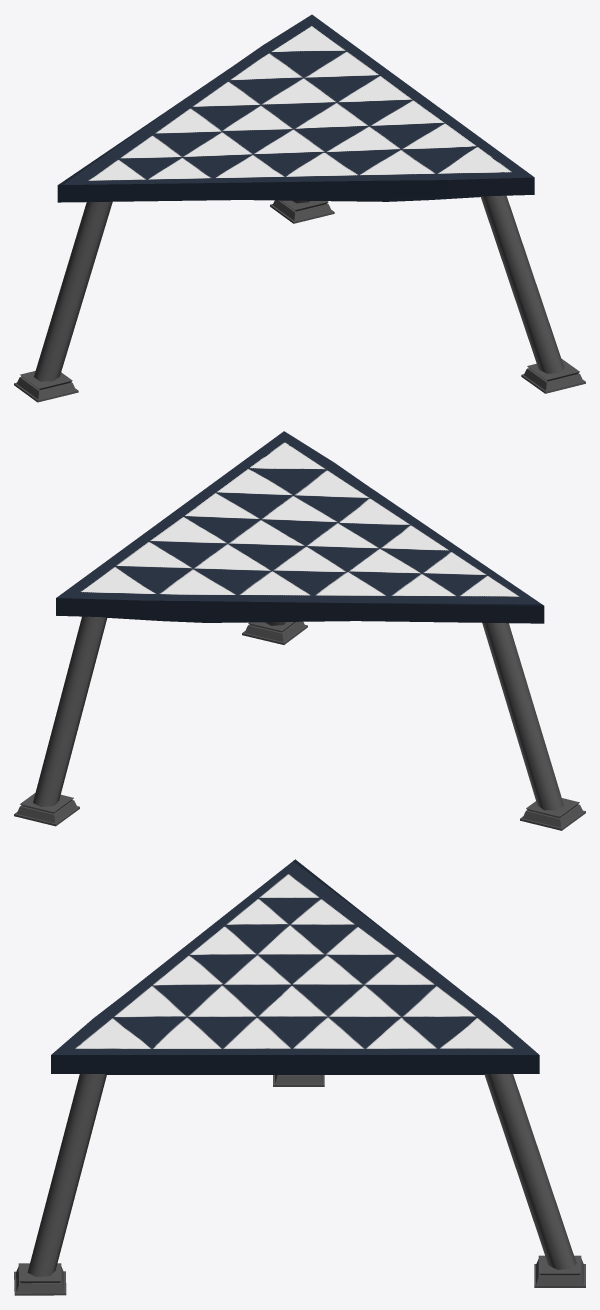
The model's file is tableTRIANGLE.fbx.
The picture shows the model from 3 angles, top to bottom: view 1: azimuth 30°, elevation 25°; view 2: azimuth 150°, elevation 25°; view 3: azimuth 270°, elevation 25°; orthographic projection. The views are drawn at different scales.
Visible parts, largest first — view 1: tabletop, leg3, leg1, foot1, foot3, foot2; view 2: tabletop, leg1, leg2, foot1, foot2, foot3; view 3: tabletop, leg2, leg3, foot3, foot2, foot1.
Part boxes in pixels (x1=…): tabletop: x1=57, y1=14, x2=534, y2=202; leg3: x1=481, y1=195, x2=564, y2=373; leg1: x1=34, y1=201, x2=112, y2=381; foot1: x1=14, y1=371, x2=78, y2=402; foot3: x1=521, y1=358, x2=585, y2=393; foot2: x1=270, y1=200, x2=334, y2=223; tabletop: x1=56, y1=431, x2=544, y2=623; leg1: x1=482, y1=623, x2=563, y2=810; leg2: x1=33, y1=616, x2=107, y2=806; foot1: x1=520, y1=798, x2=585, y2=830; foot2: x1=14, y1=793, x2=79, y2=826; foot3: x1=242, y1=621, x2=307, y2=644; tabletop: x1=51, y1=859, x2=539, y2=1074; leg2: x1=484, y1=1074, x2=576, y2=1269; leg3: x1=27, y1=1074, x2=106, y2=1277; foot3: x1=14, y1=1263, x2=66, y2=1295; foot2: x1=534, y1=1255, x2=585, y2=1287; foot1: x1=273, y1=1075, x2=324, y2=1086.
Bounding box in the file's own units: 12.14 × 5.45 × 12.73.
Materials: 2 (1 with a texture image).
